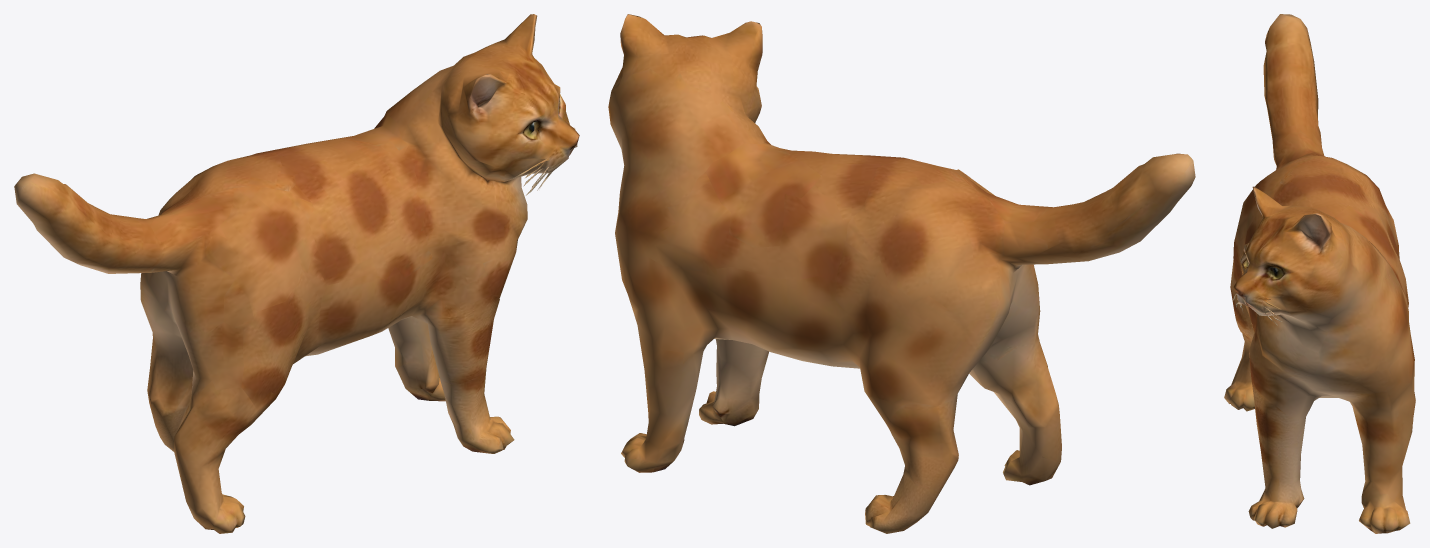
The model's file is KIOSKPAW-lo.glb.
3 views of the same model, side by side, from view 1: azimuth 30°, elevation 25°; view 2: azimuth 150°, elevation 25°; view 3: azimuth 270°, elevation 25° (orthographic). The views are drawn at different scales.
Visible parts, largest first — view 1: tripo_node_bd5ad442-934c-4900-9164-ed0400b5c3cf; view 2: tripo_node_bd5ad442-934c-4900-9164-ed0400b5c3cf; view 3: tripo_node_bd5ad442-934c-4900-9164-ed0400b5c3cf.
Boxes of the visible parts, x1,y1,x2,y2 form: tripo_node_bd5ad442-934c-4900-9164-ed0400b5c3cf: (14, 14, 579, 533); tripo_node_bd5ad442-934c-4900-9164-ed0400b5c3cf: (608, 14, 1195, 533); tripo_node_bd5ad442-934c-4900-9164-ed0400b5c3cf: (1224, 14, 1415, 533).
Bounding box in the file's own units: 1.46 × 0.9997 × 0.5107.
Materials: 1 (1 with a texture image).
